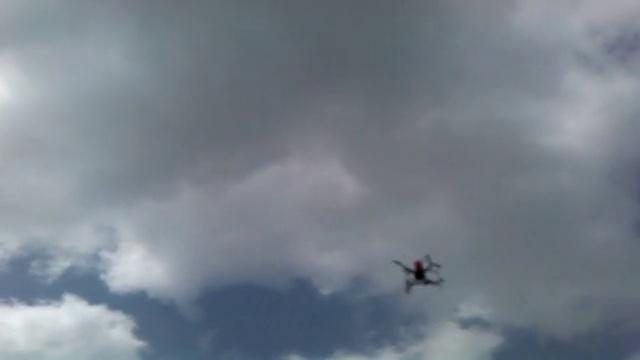drone: (391, 250, 445, 294)
